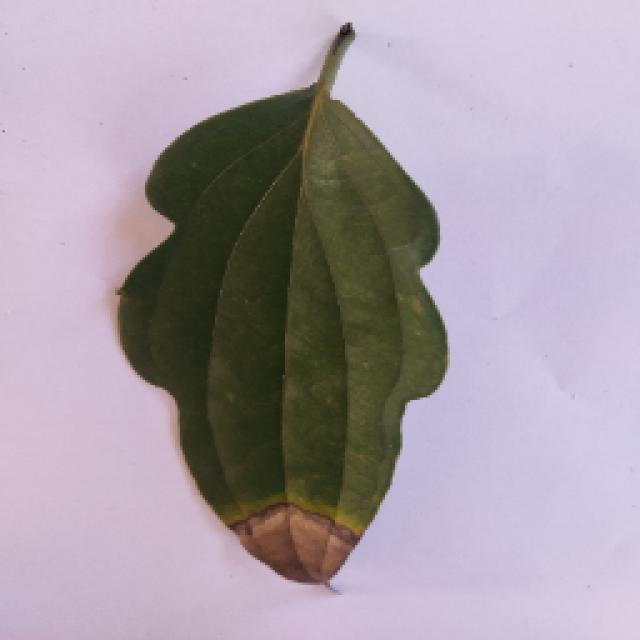footrot: (112, 30, 448, 585)
